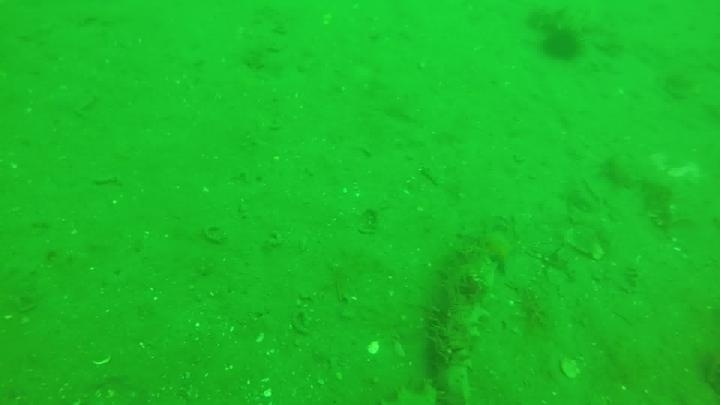echinus: (539, 27, 583, 63)
holothurian: (424, 244, 496, 404), (524, 3, 601, 37), (378, 381, 448, 405)
starfish: (470, 225, 521, 276)
